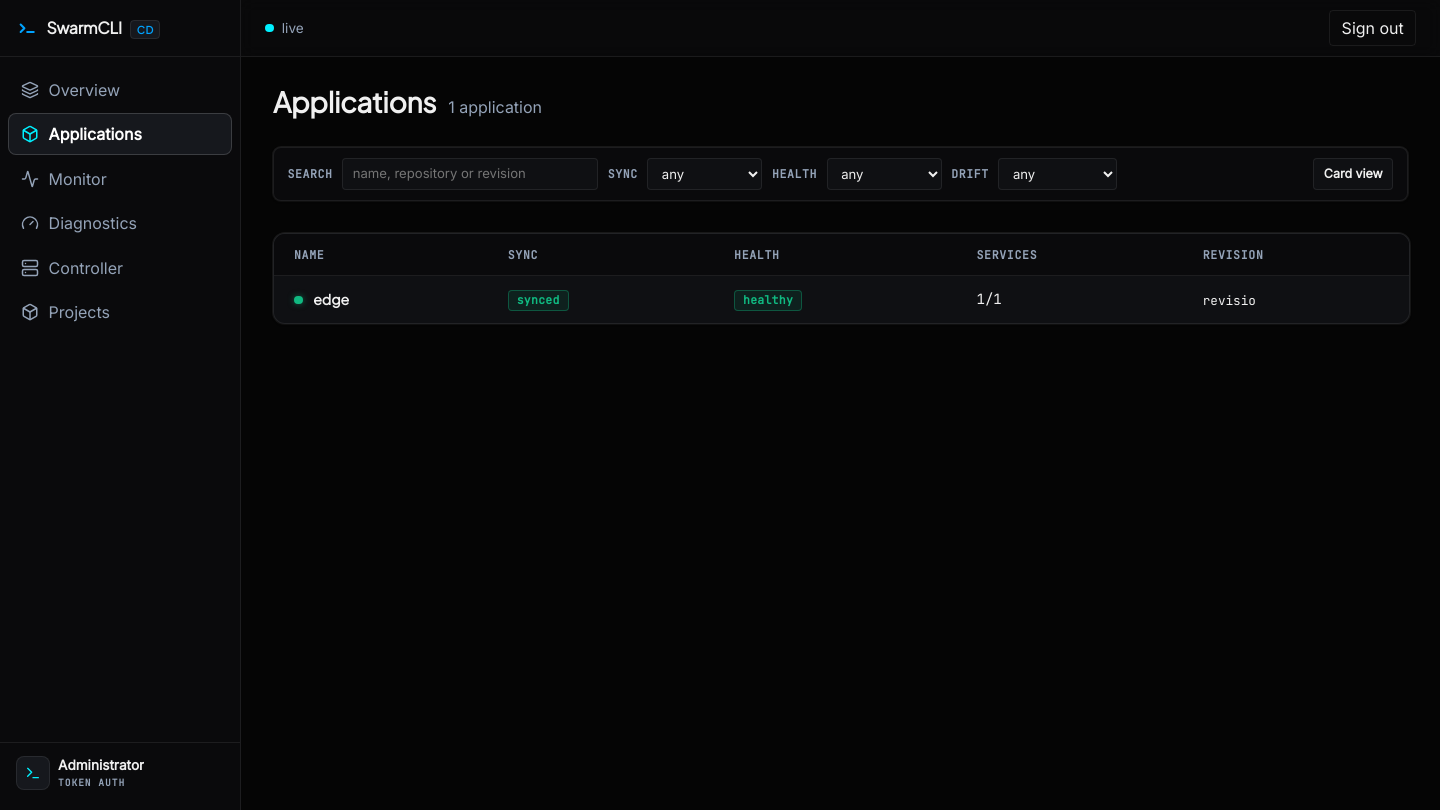
Scenario: the licensed shells › adds the Projects nav item, and somewhere for it to go, when projects is granted
Check: the text "1 application" is shown, box [448,95,542,119]
Click the link "Projects".
click(66, 312)  # box [21,302,110,322]
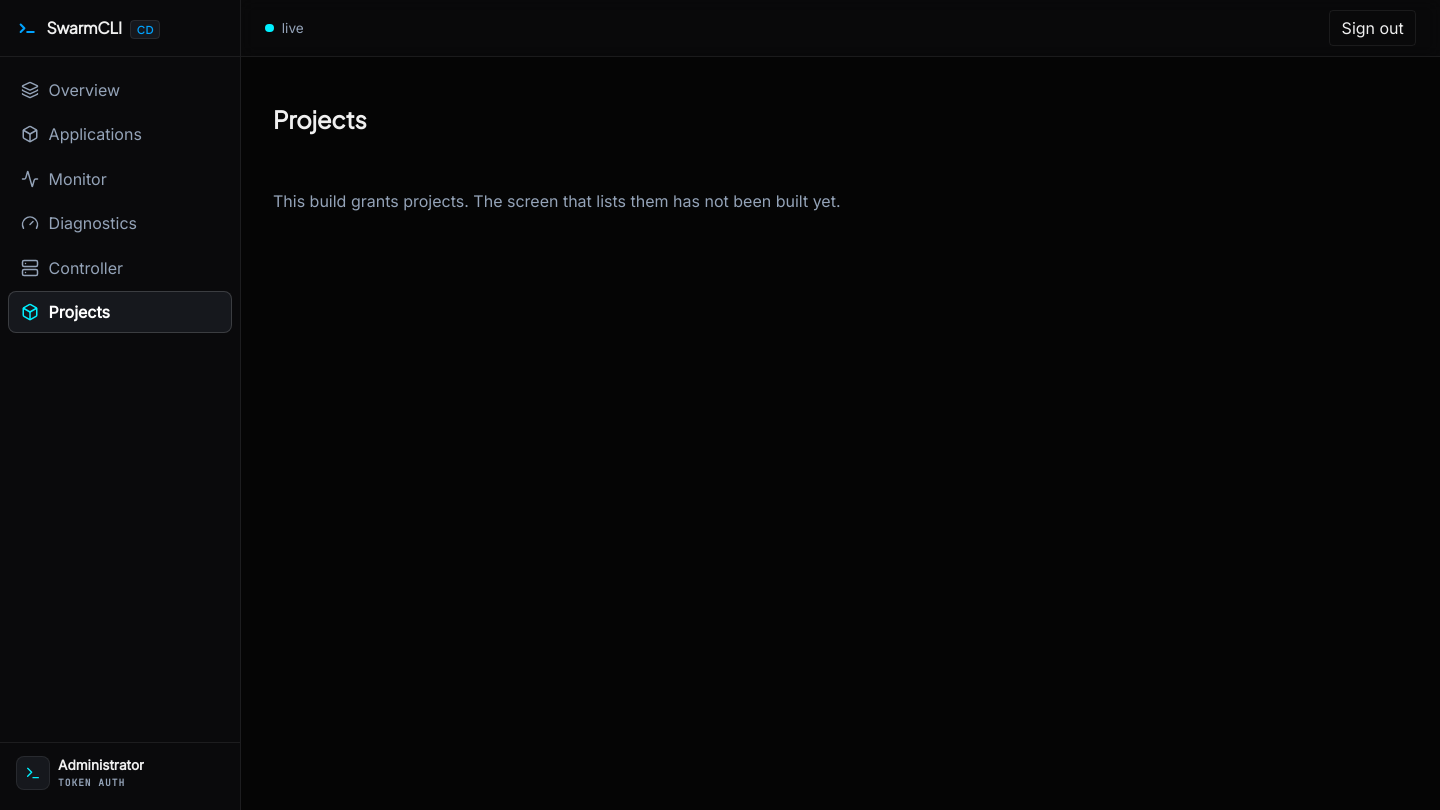
Check: the button "Sign out" is shown, box [1329,10,1416,46]
Check: the heading "Projects" is shown, box [273,104,366,134]
